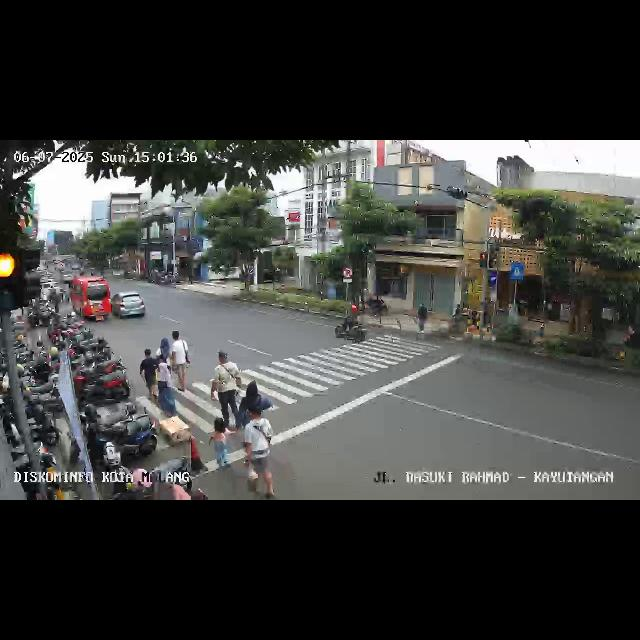car: (69, 274, 111, 322), (110, 291, 146, 321)
motorcycle: (334, 304, 366, 344)
person: (237, 381, 273, 474), (243, 401, 275, 497), (212, 352, 240, 426), (208, 415, 235, 473), (155, 354, 175, 418), (168, 331, 190, 385), (140, 346, 158, 402), (156, 336, 174, 374), (415, 302, 429, 334)
